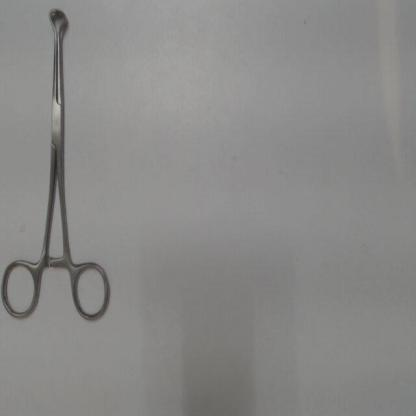Babcock Tissue Forceps: (0, 2, 114, 325)
